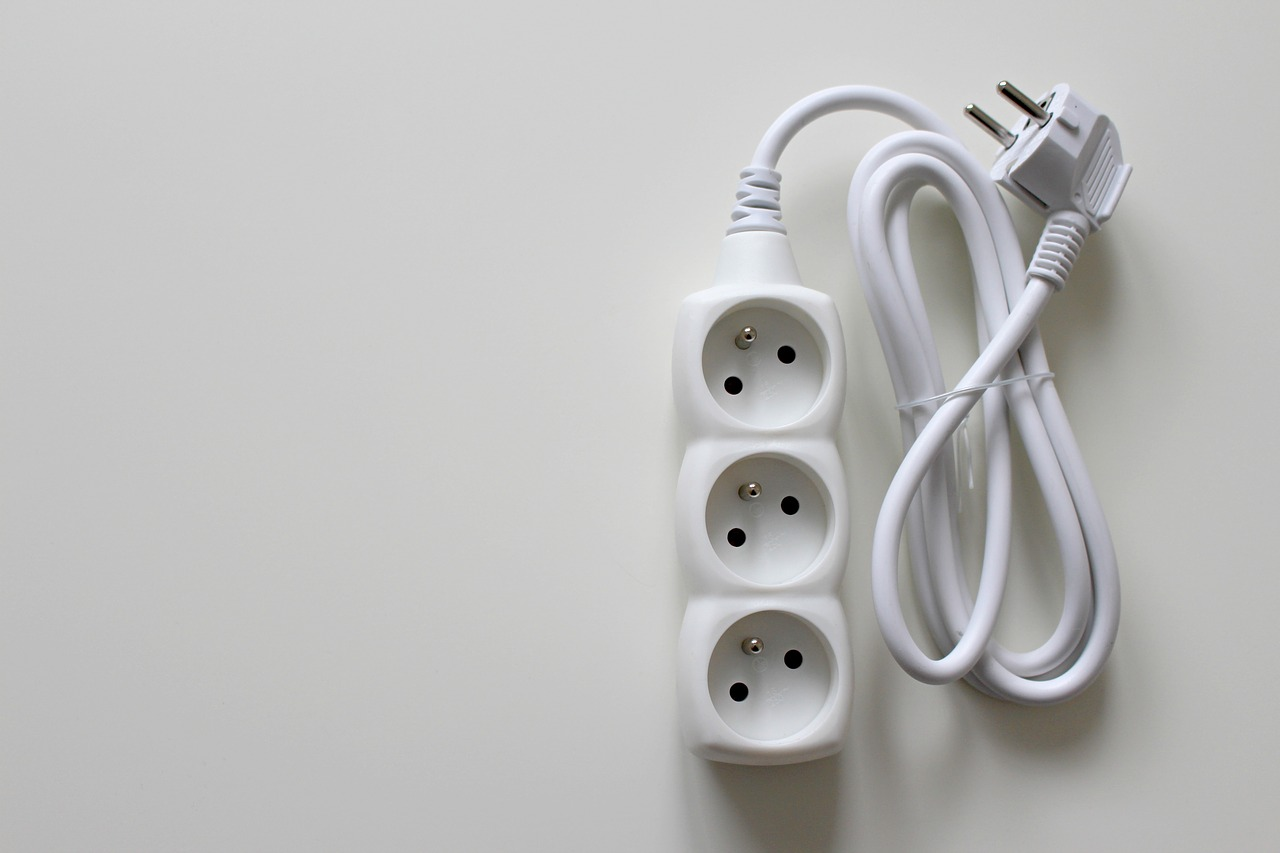Three_eye_plug: (664, 272, 916, 786)
